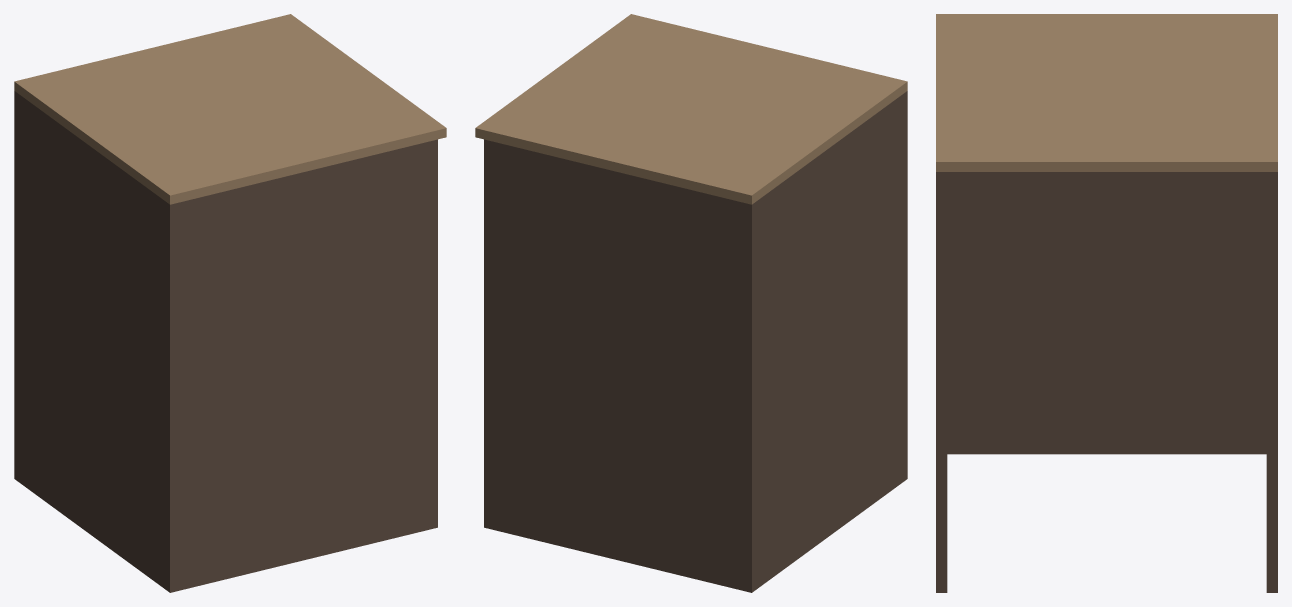
The model's file is body.obj.
The picture shows the model from 3 angles, left to right: view 1: azimuth 30°, elevation 25°; view 2: azimuth 150°, elevation 25°; view 3: azimuth 270°, elevation 25°; orthographic projection. The views are drawn at different scales.
Parts seen in each view (by area): view 1: body_left, body_back, tabletop; view 2: body_right, body_back, tabletop; view 3: body_back, tabletop, body_left, body_right.
Part boxes in pixels (x1,y1,x2,y2): body_left: [179, 139, 437, 590]; body_back: [14, 91, 178, 592]; tabletop: [14, 14, 446, 204]; body_right: [484, 139, 742, 590]; body_back: [743, 91, 907, 592]; tabletop: [475, 14, 907, 204]; body_back: [947, 172, 1266, 454]; tabletop: [936, 14, 1277, 171]; body_left: [936, 172, 947, 592]; body_right: [1266, 172, 1277, 592].
Size of the model in its own units: 0.63 by 0.865 by 0.615.
